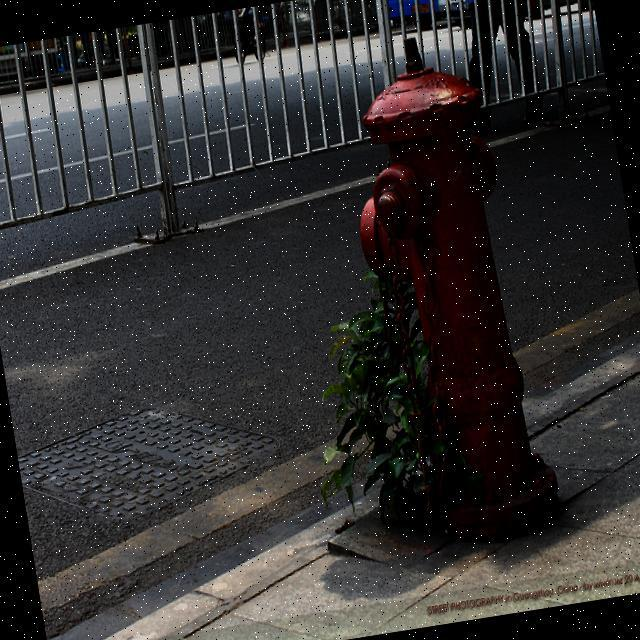fire_hydrant: (330, 26, 564, 554)
